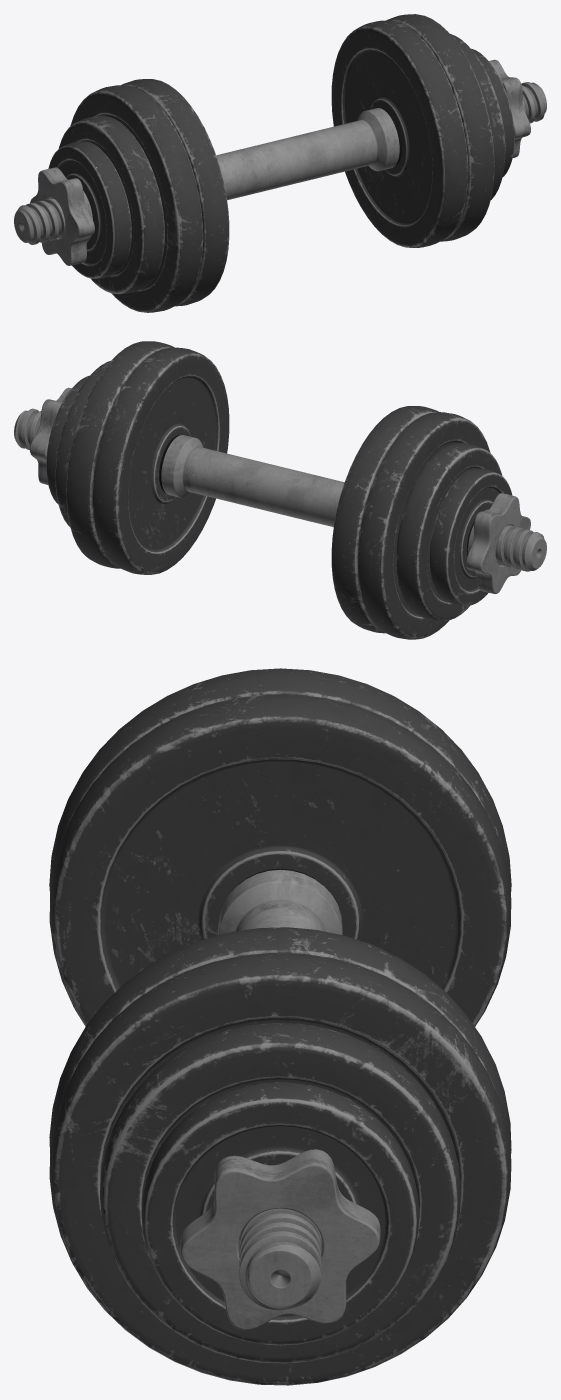
Rendered from dumbbells1129.fbx.
3 renders of one model, top to bottom at view 1: azimuth 30°, elevation 25°; view 2: azimuth 150°, elevation 25°; view 3: azimuth 270°, elevation 25°, orthographic. The views are drawn at different scales.
Visible parts, largest first — view 1: Dumbells; view 2: Dumbells; view 3: Dumbells.
Part boxes in pixels (x1=…): Dumbells: x1=14, y1=14, x2=546, y2=312; Dumbells: x1=14, y1=341, x2=546, y2=639; Dumbells: x1=49, y1=668, x2=511, y2=1385.
Size of the model in its own units: 24.03 by 9.29 by 9.29.
Materials: 2 (2 with a texture image).
